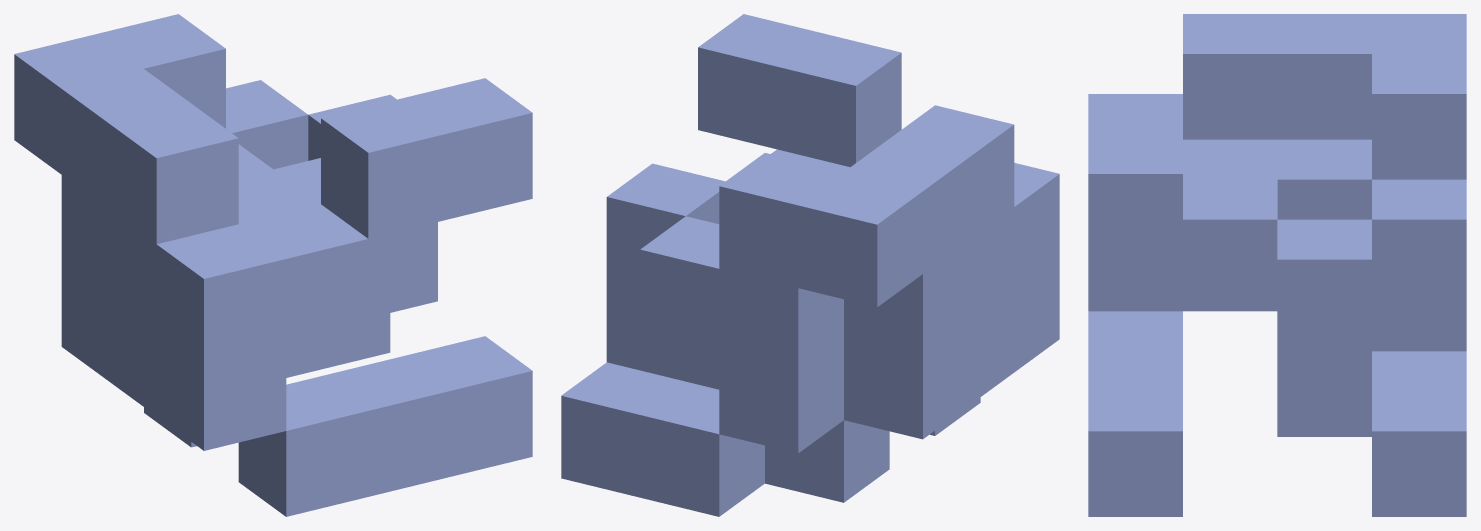
3 renders of one model, left to right at view 1: azimuth 30°, elevation 25°; view 2: azimuth 150°, elevation 25°; view 3: azimuth 270°, elevation 25°, orthographic. The views are drawn at different scales.
Visible parts, largest first — view 1: _changes.022; view 2: _changes.022; view 3: _changes.022.
Part boxes in pixels (x1,y1,x2,y2): _changes.022: [14, 14, 532, 516]; _changes.022: [561, 14, 1059, 516]; _changes.022: [1088, 14, 1466, 516].
Bounding box in the file's own units: 0.1041 × 0.1041 × 0.1041.
